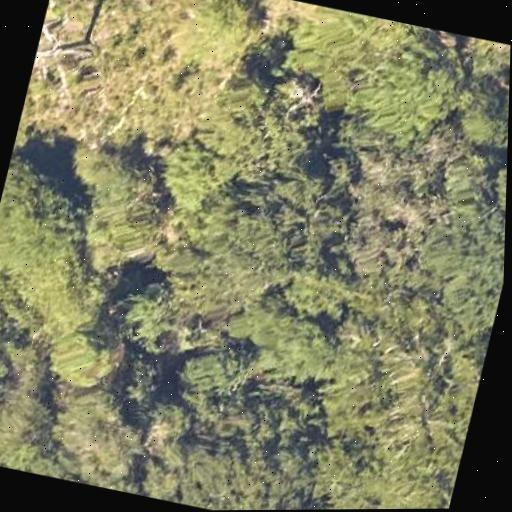tree-top: (283, 2, 474, 142), (58, 116, 184, 278), (409, 160, 507, 335), (193, 74, 320, 190), (45, 387, 152, 489), (0, 314, 63, 472), (167, 0, 269, 80), (147, 134, 231, 219), (110, 272, 184, 361)
